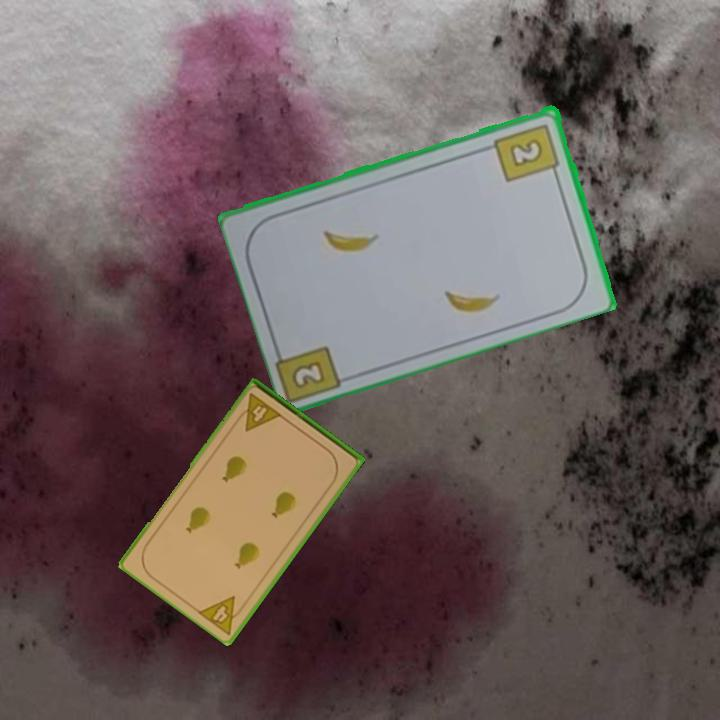2b: (491, 119, 563, 185), (291, 360, 325, 388)
4p: (194, 592, 250, 638), (232, 390, 285, 434)
